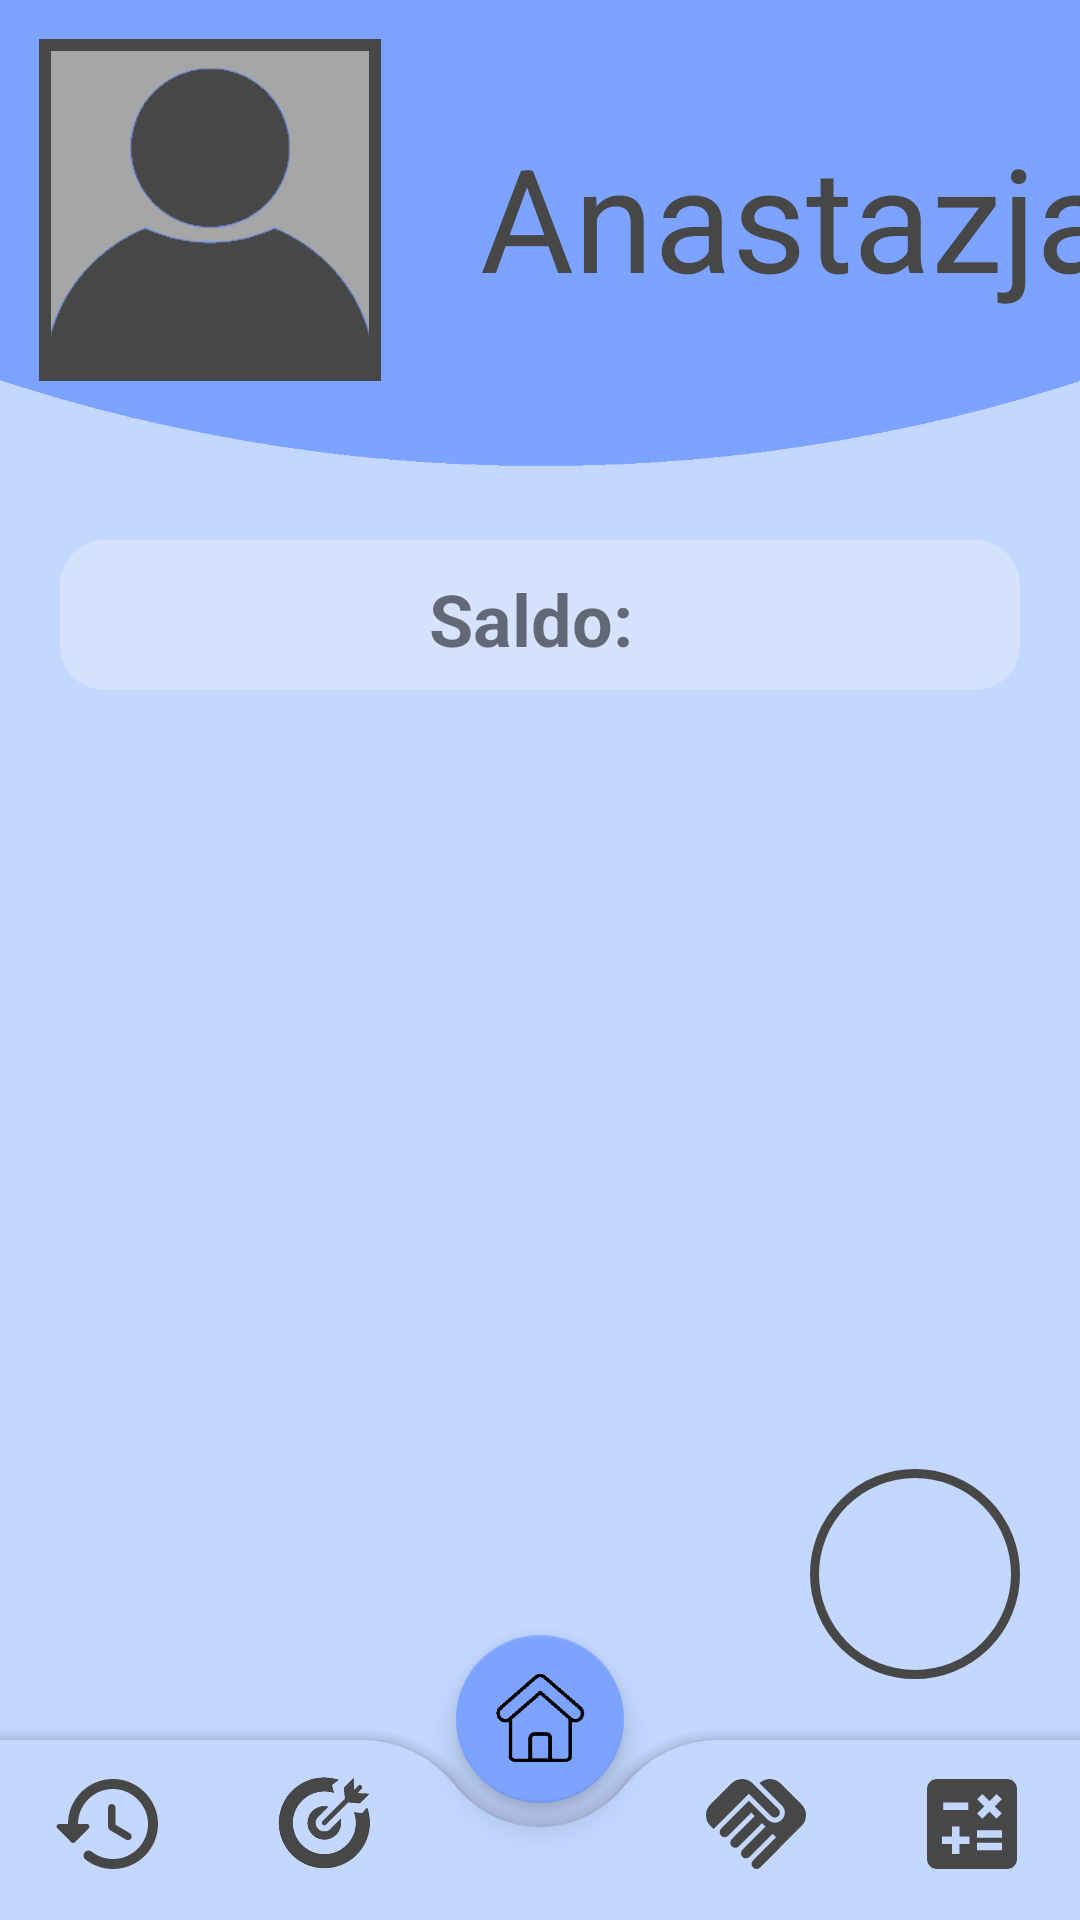

Screen size 1080x1920. Icon name, then its center in pixels as [x,y]:
calculator: [972,1824]
coop: [756,1824]
history: [107,1824]
home: [540,1740]
no photo user: [210,210]
target: [324,1822]
